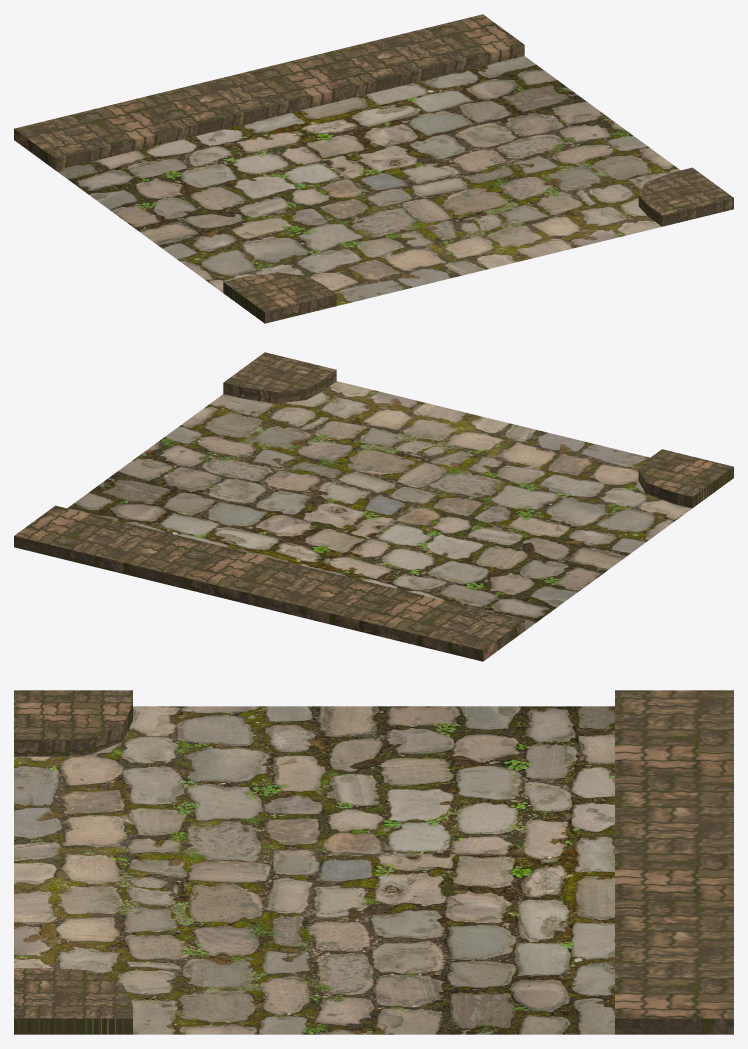
File: Middleand trottoir_cotebas.FBX
3 renders of one model, top to bottom at view 1: azimuth 30°, elevation 25°; view 2: azimuth 150°, elevation 25°; view 3: azimuth 270°, elevation 25°, orthographic. The views are drawn at different scales.
Parts seen in each view (by area): view 1: Plane002; view 2: Plane002; view 3: Plane002.
Boxes of the visible parts, x1,y1,x2,y2 form: Plane002: (14, 14, 733, 323); Plane002: (14, 352, 733, 661); Plane002: (14, 690, 733, 1034).
Size of the model in its own units: 447 by 414 by 10.33.
2 materials, 2 textured.
